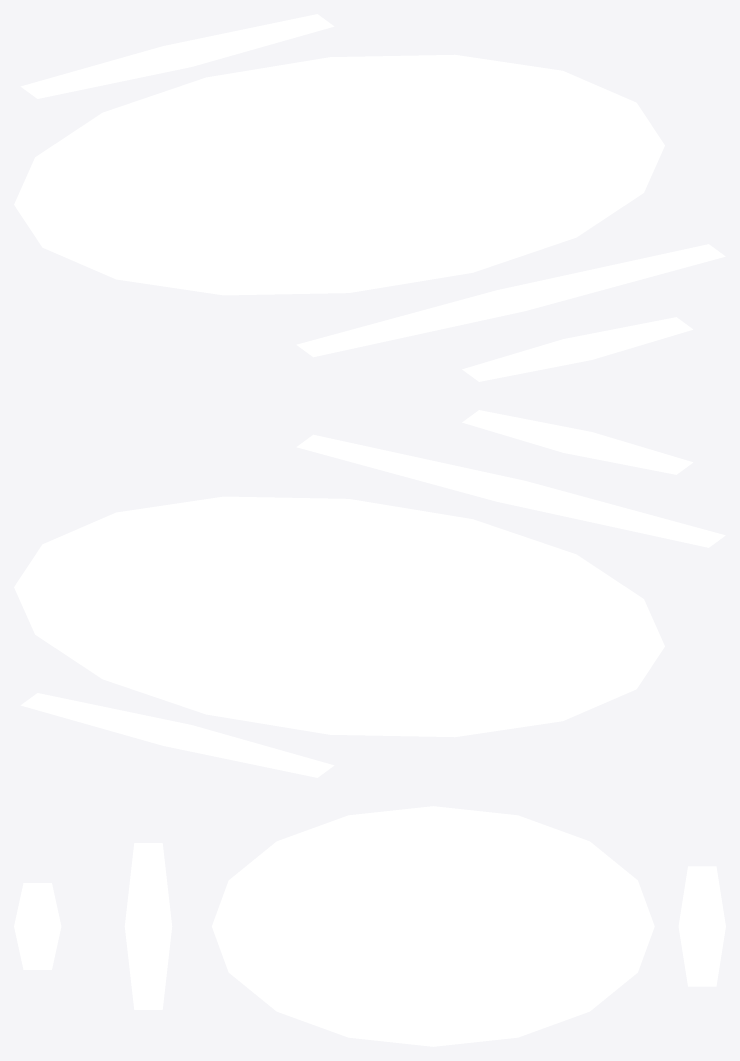
The model's file is moon_glint.glb.
The picture shows the model from 3 angles, top to bottom: view 1: azimuth 30°, elevation 25°; view 2: azimuth 150°, elevation 25°; view 3: azimuth 270°, elevation 25°; orthographic projection. The views are drawn at different scales.
Visible parts, largest first — view 1: glint; view 2: glint; view 3: glint.
Boxes of the visible parts, x1,y1,x2,y2 form: glint: (14, 14, 725, 381); glint: (14, 410, 725, 777); glint: (14, 806, 725, 1046).
Bounding box in the file's own units: 0.72 × 0 × 0.9.
